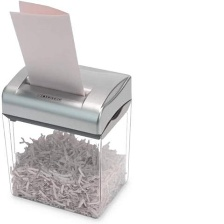book: (8, 125, 131, 221), (5, 0, 88, 98)
